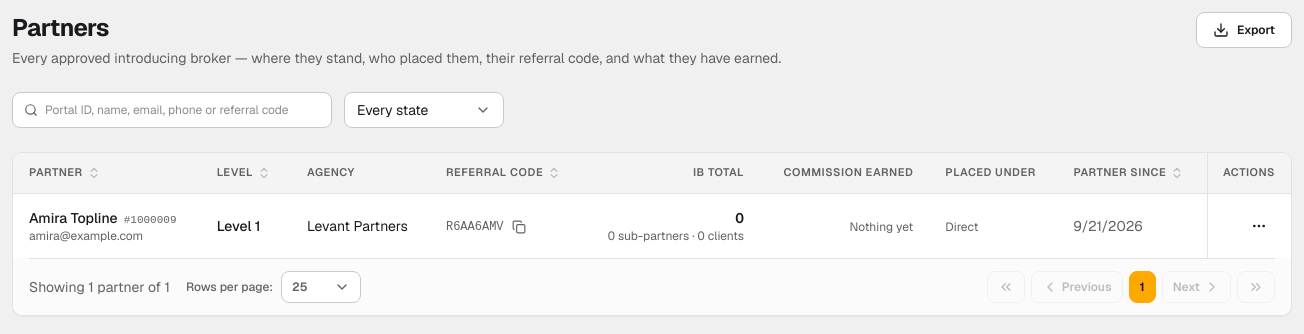
Test: the partner directory — what an operator may do › offers no write to an operator who may only read partners
Step 1. Click the button named "actions for" → (1259, 226), box [1243,210,1275,242]
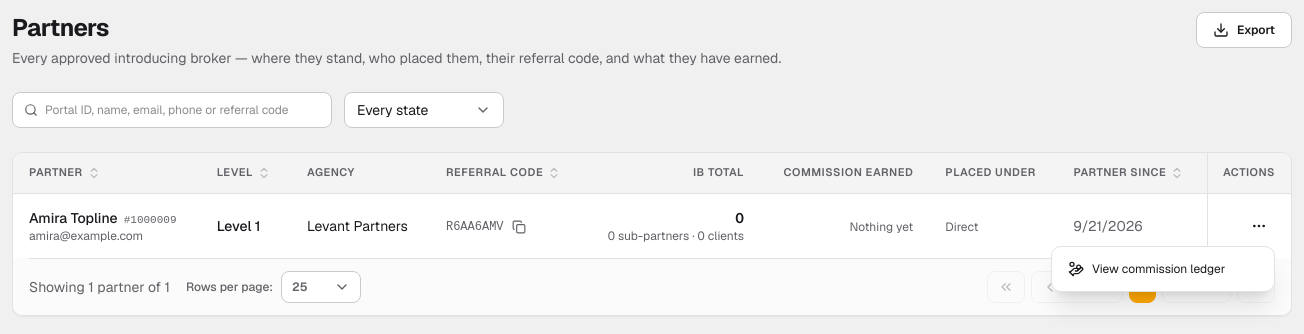
Expected: the menu item "View commission ledger" is shown, [1068,261,1225,277]
